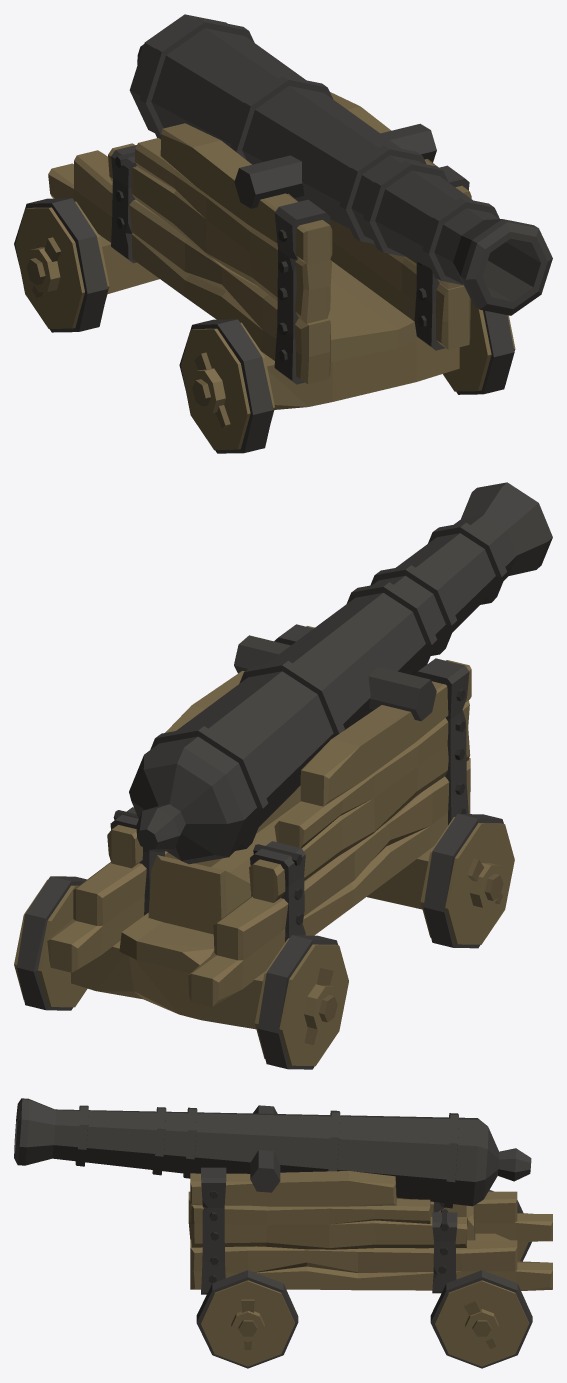
The model's file is Cannon_1 .fbx.
3 renders of one model, top to bottom at view 1: azimuth 30°, elevation 25°; view 2: azimuth 150°, elevation 25°; view 3: azimuth 270°, elevation 25°, orthographic. The views are drawn at different scales.
Visible parts, largest first — view 1: Cannon_1, Cannon_1_Barrel, Cannon_1_Wheel_Front, Cannon_1_Wheel_Back; view 2: Cannon_1, Cannon_1_Barrel, Cannon_1_Wheel_Back, Cannon_1_Wheel_Front; view 3: Cannon_1, Cannon_1_Barrel, Cannon_1_Wheel_Back, Cannon_1_Wheel_Front.
Part boxes in pixels (x1=…): Cannon_1: x1=48, y1=92, x2=471, y2=409; Cannon_1_Barrel: x1=129, y1=14, x2=552, y2=315; Cannon_1_Wheel_Front: x1=179, y1=299, x2=515, y2=453; Cannon_1_Wheel_Back: x1=14, y1=198, x2=109, y2=332; Cannon_1: x1=47, y1=624, x2=471, y2=1029; Cannon_1_Barrel: x1=129, y1=482, x2=552, y2=864; Cannon_1_Wheel_Back: x1=14, y1=876, x2=348, y2=1069; Cannon_1_Wheel_Front: x1=420, y1=813, x2=514, y2=948; Cannon_1: x1=188, y1=1167, x2=552, y2=1294; Cannon_1_Barrel: x1=14, y1=1098, x2=531, y2=1208; Cannon_1_Wheel_Back: x1=430, y1=1190, x2=532, y2=1368; Cannon_1_Wheel_Front: x1=196, y1=1270, x2=298, y2=1368.
Bounding box in the file's own units: 108 × 109 × 238.
